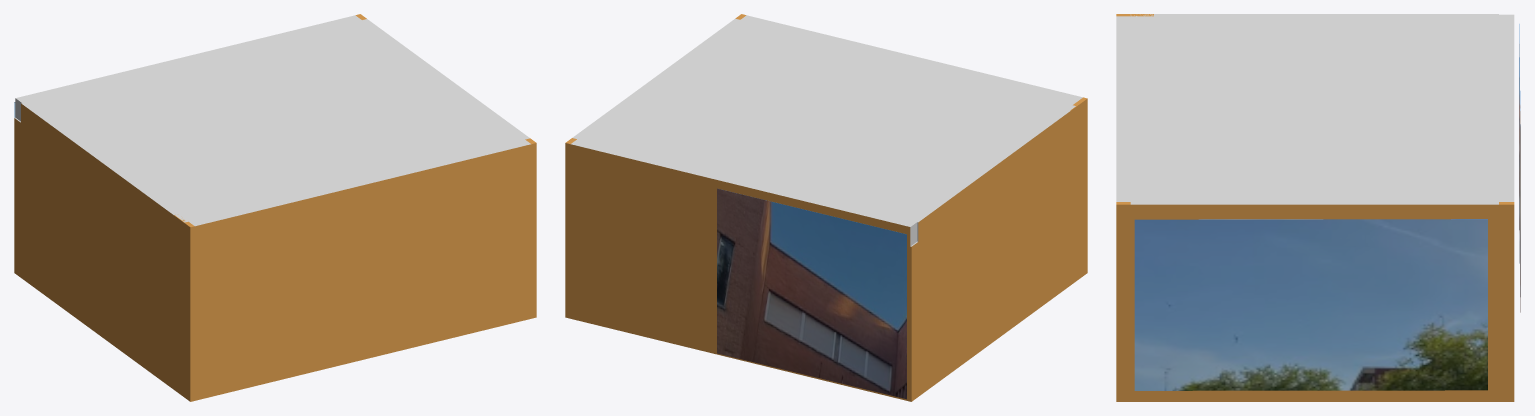
File: museo.glb
The picture shows the model from 3 angles, left to right: view 1: azimuth 30°, elevation 25°; view 2: azimuth 150°, elevation 25°; view 3: azimuth 270°, elevation 25°; orthographic projection. The views are drawn at different scales.
Parts seen in each view (by area): view 1: Plane; view 2: Plane, Cube.003; view 3: Plane, Cube.002, Cube.003.
Part boxes in pixels (left/top/right/bottom): Plane: left=14, top=14, right=536, bottom=401; Plane: left=565, top=14, right=1087, bottom=401; Cube.003: left=717, top=188, right=906, bottom=399; Plane: left=1116, top=14, right=1514, bottom=401; Cube.002: left=1134, top=219, right=1487, bottom=390; Cube.003: left=1519, top=24, right=1520, bottom=312.
Size of the model in its own units: 478 by 228 by 423.
Materials: 6 (2 with a texture image).
